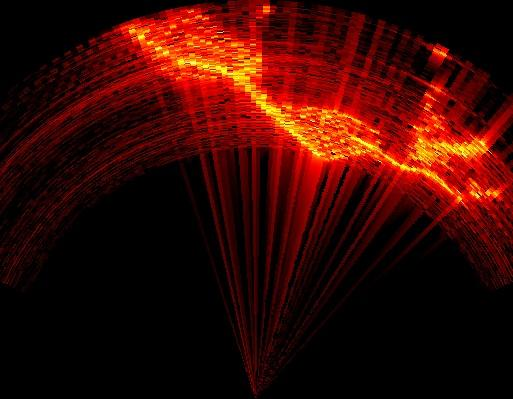shipwreck: (125, 9, 501, 202)
